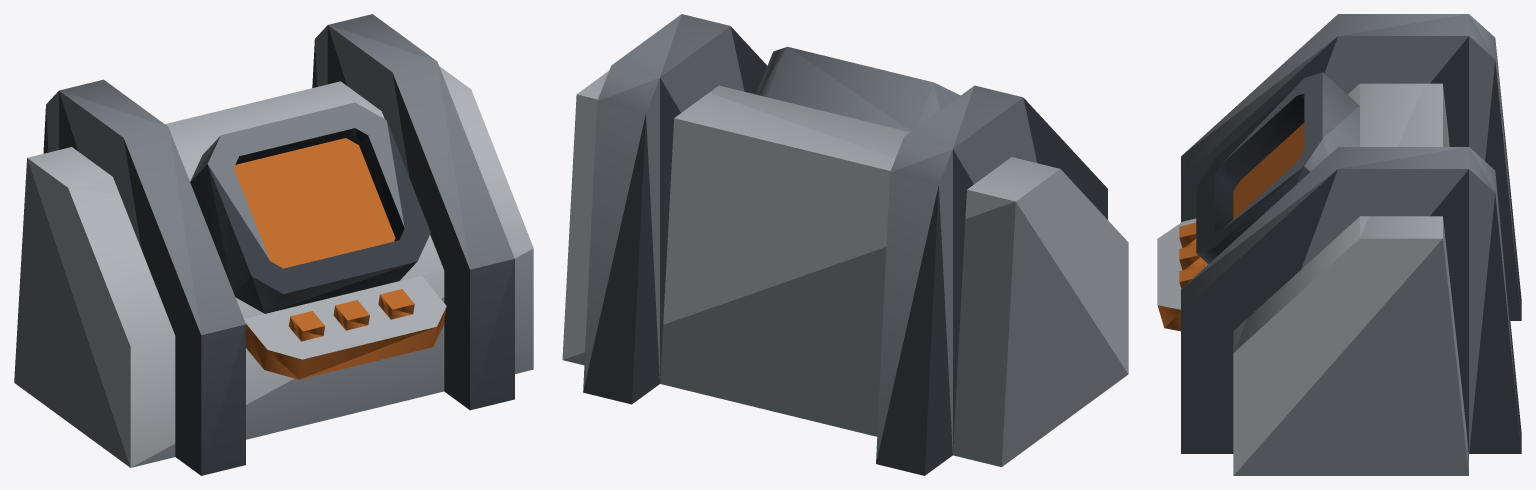
Rendered from Kit_computer-system.fbx.
3 renders of one model, left to right at view 1: azimuth 30°, elevation 25°; view 2: azimuth 150°, elevation 25°; view 3: azimuth 270°, elevation 25°, orthographic. The views are drawn at different scales.
Parts seen in each view (by area): view 1: Kit_computer-system; view 2: Kit_computer-system; view 3: Kit_computer-system.
Part boxes in pixels (bbox=[...]): Kit_computer-system: bbox=[14, 14, 533, 475]; Kit_computer-system: bbox=[562, 14, 1128, 475]; Kit_computer-system: bbox=[1157, 14, 1521, 475].
Bounding box in the file's own units: 0.9 × 0.6 × 0.6949.
